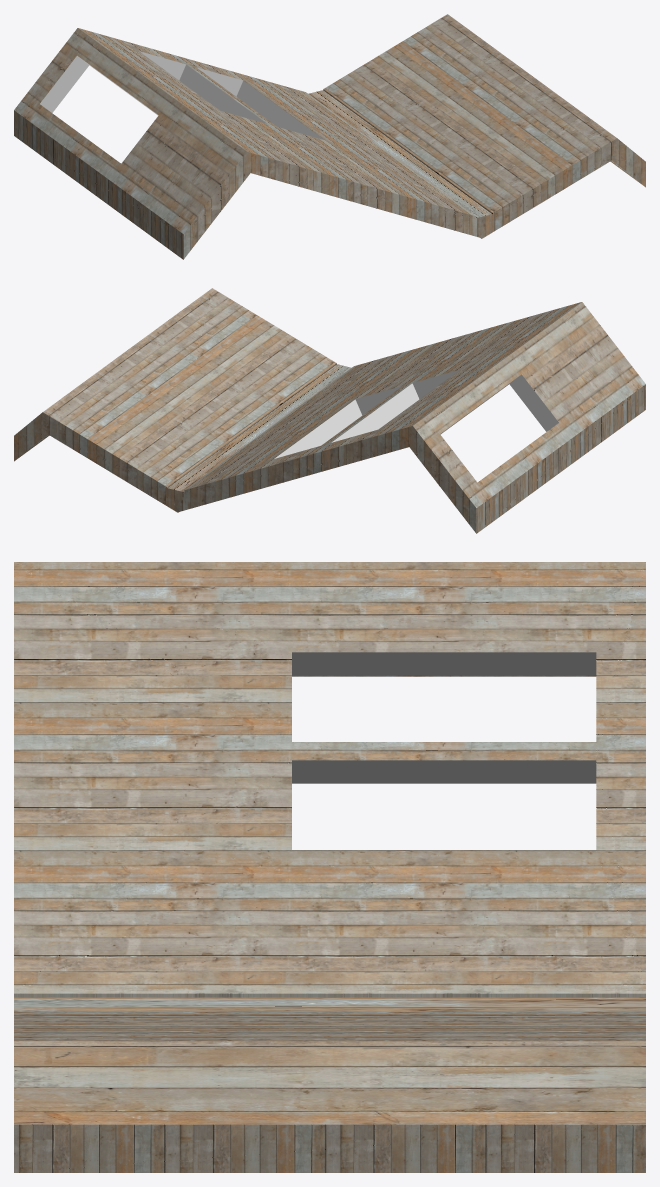
The model's file is BRoof.gltf.
3 renders of one model, top to bottom at view 1: azimuth 30°, elevation 25°; view 2: azimuth 150°, elevation 25°; view 3: azimuth 270°, elevation 25°, orthographic. The views are drawn at different scales.
Visible parts, largest first — view 1: Roof; view 2: Roof; view 3: Roof.
Boxes of the visible parts, box(x1,y1,x2,y2) form: Roof: box(14, 14, 645, 259); Roof: box(14, 288, 645, 533); Roof: box(14, 562, 645, 1172).
Size of the model in its own units: 131 by 39.04 by 83.1.
